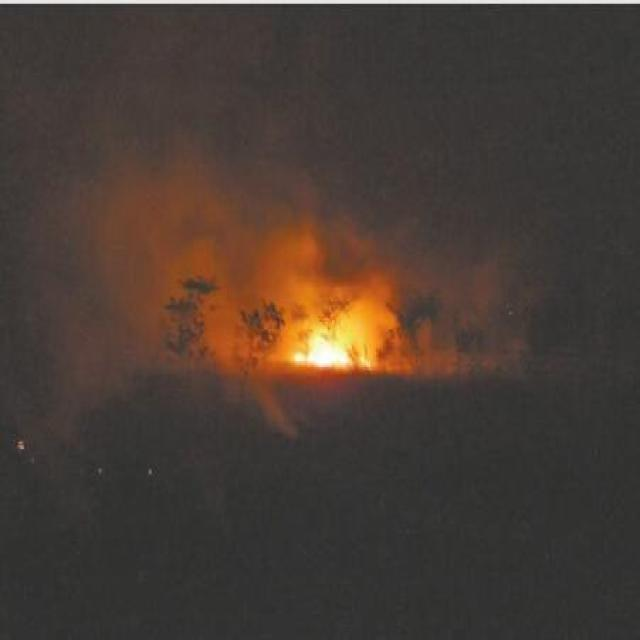fire: (268, 302, 394, 364)
